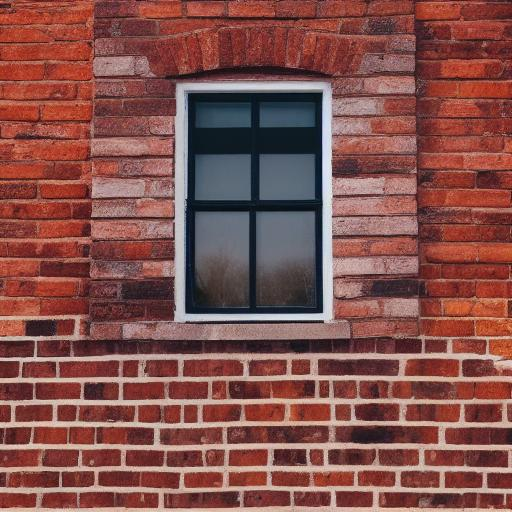Window: (148, 27, 363, 328)
